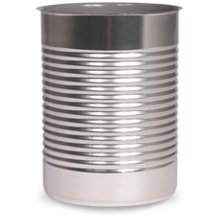metal: (36, 2, 184, 208)
